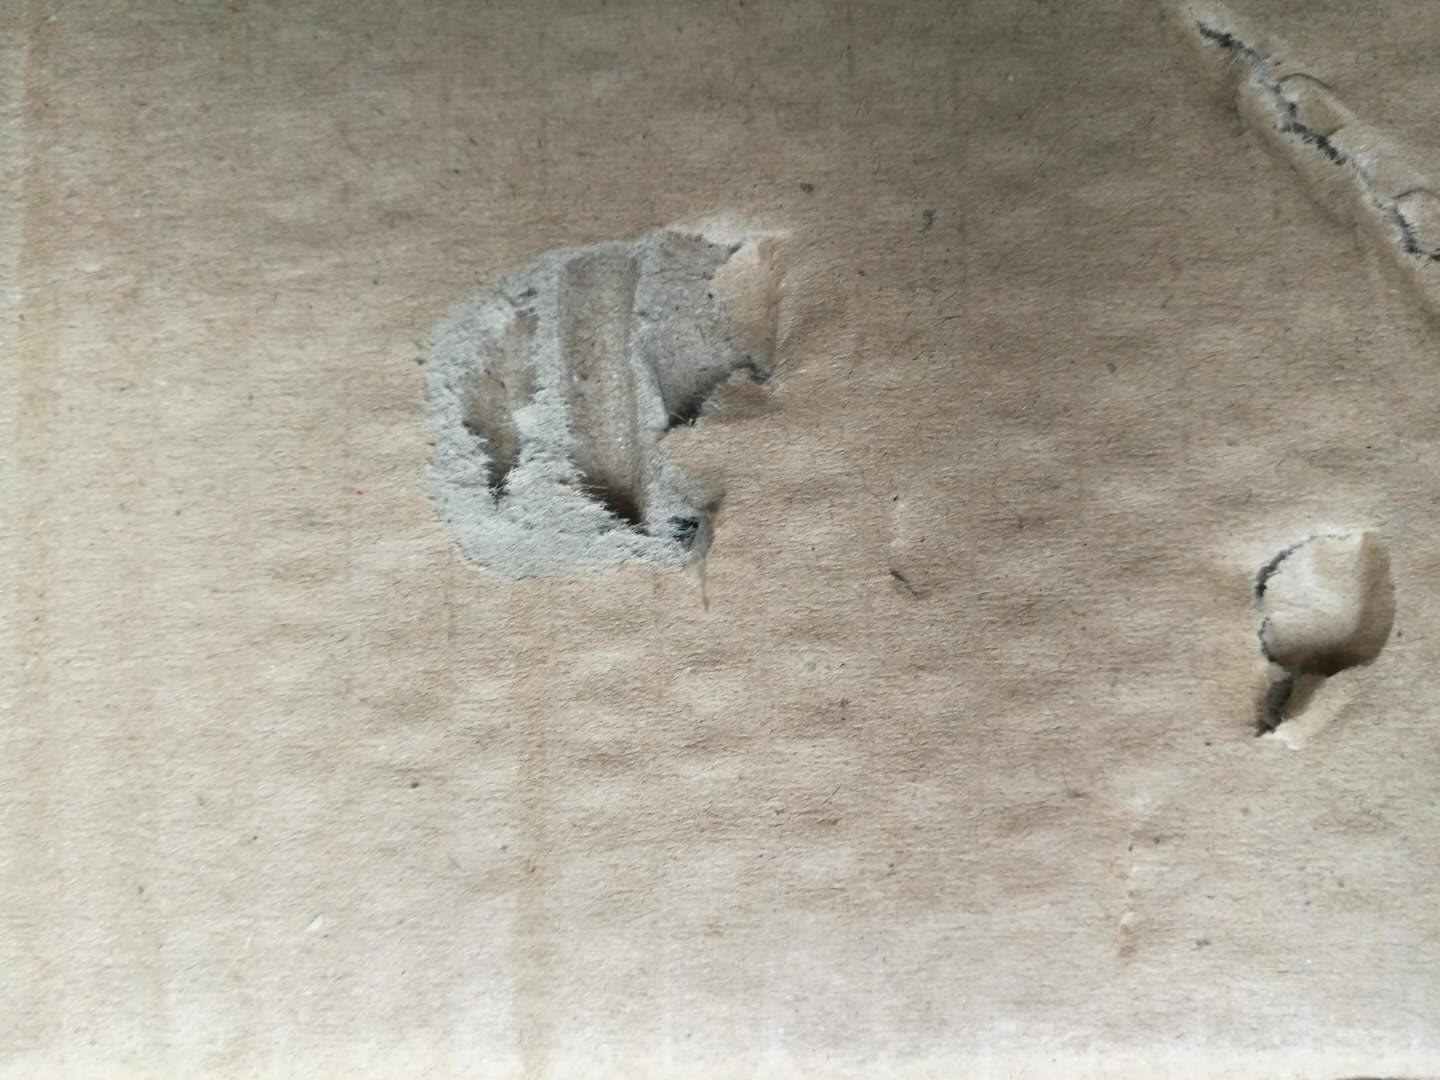defect: (376, 169, 845, 631), (1136, 1, 1440, 344), (1217, 501, 1426, 777), (875, 490, 977, 618)
